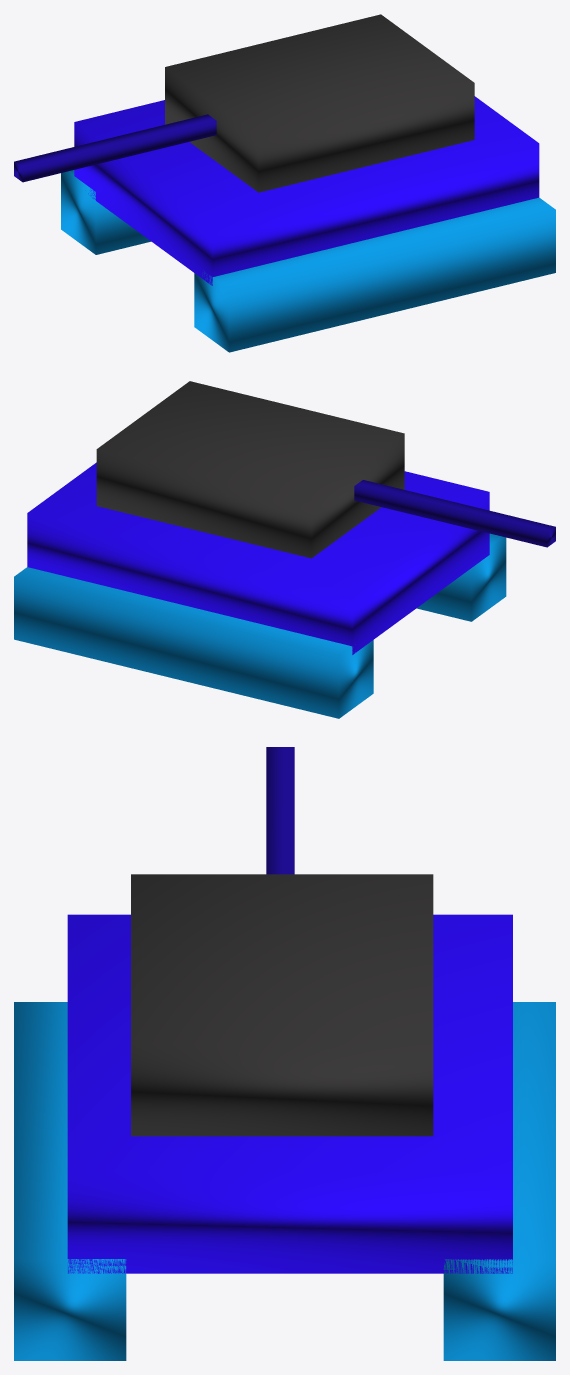
The model's file is redtank.glb.
3 views of the same model, one above another, from view 1: azimuth 30°, elevation 25°; view 2: azimuth 150°, elevation 25°; view 3: azimuth 270°, elevation 25° (orthographic). The views are drawn at different scales.
Visible parts, largest first — view 1: Cube.002, Cube.003, Cube, Cube.004, Cube.001; view 2: Cube.002, Cube.003, Cube.001, Cube.004, Cube; view 3: Cube.002, Cube.003, Cube, Cube.001, Cube.004.
Part boxes in pixels (<box>): Cube.002: <box>74,96,539,285</box>; Cube.003: <box>165,14,474,192</box>; Cube: <box>194,197,555,352</box>; Cube.004: <box>14,114,216,182</box>; Cube.001: <box>61,170,150,254</box>; Cube.002: <box>27,462,489,654</box>; Cube.003: <box>96,381,404,558</box>; Cube.001: <box>14,567,373,718</box>; Cube.004: <box>354,480,555,547</box>; Cube: <box>416,533,506,621</box>; Cube.002: <box>67,914,512,1273</box>; Cube.003: <box>131,874,433,1136</box>; Cube: <box>14,1002,126,1360</box>; Cube.001: <box>443,1002,555,1360</box>; Cube.004: <box>266,747,294,874</box>.
Bounding box in the file's own units: 15.08 × 5.52 × 9.64.
